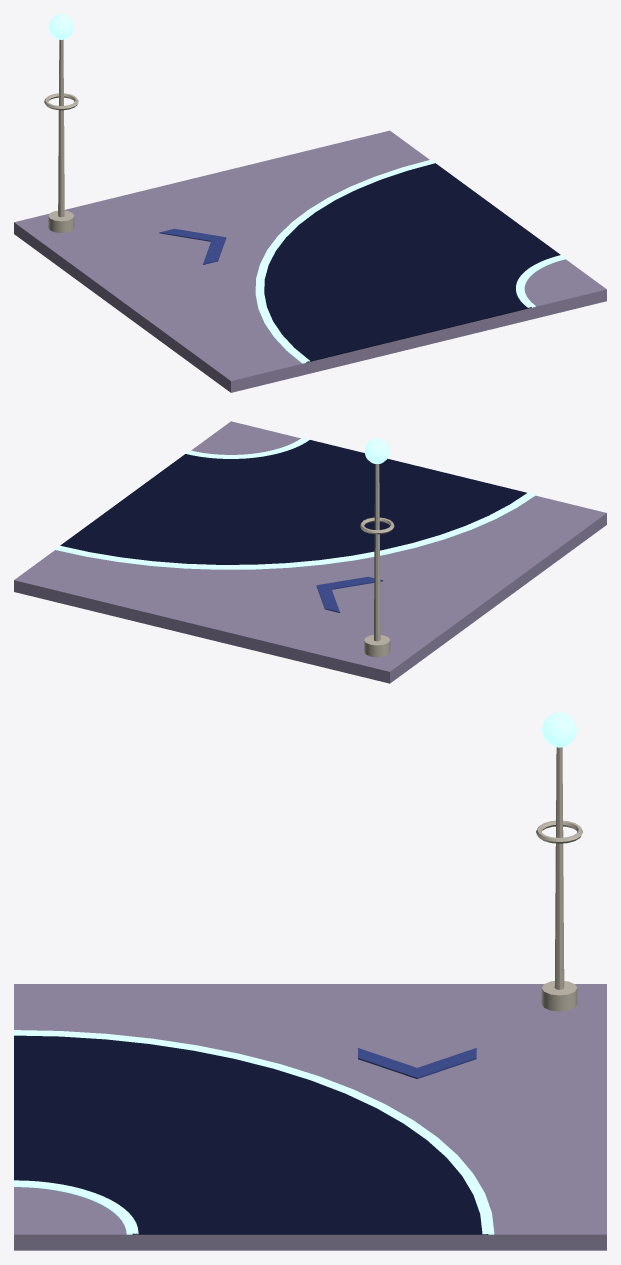
File: lane_curve.glb
The picture shows the model from 3 angles, top to bottom: view 1: azimuth 30°, elevation 25°; view 2: azimuth 150°, elevation 25°; view 3: azimuth 270°, elevation 25°; orthographic projection. The views are drawn at different scales.
Visible parts, largest first — view 1: lane_curve; view 2: lane_curve; view 3: lane_curve.
Part boxes in pixels (x1,y1,x2,y2): lane_curve: (14, 14, 606, 392); lane_curve: (14, 421, 606, 683); lane_curve: (14, 712, 606, 1250).
Size of the model in its own units: 10 by 5.7 by 10.
